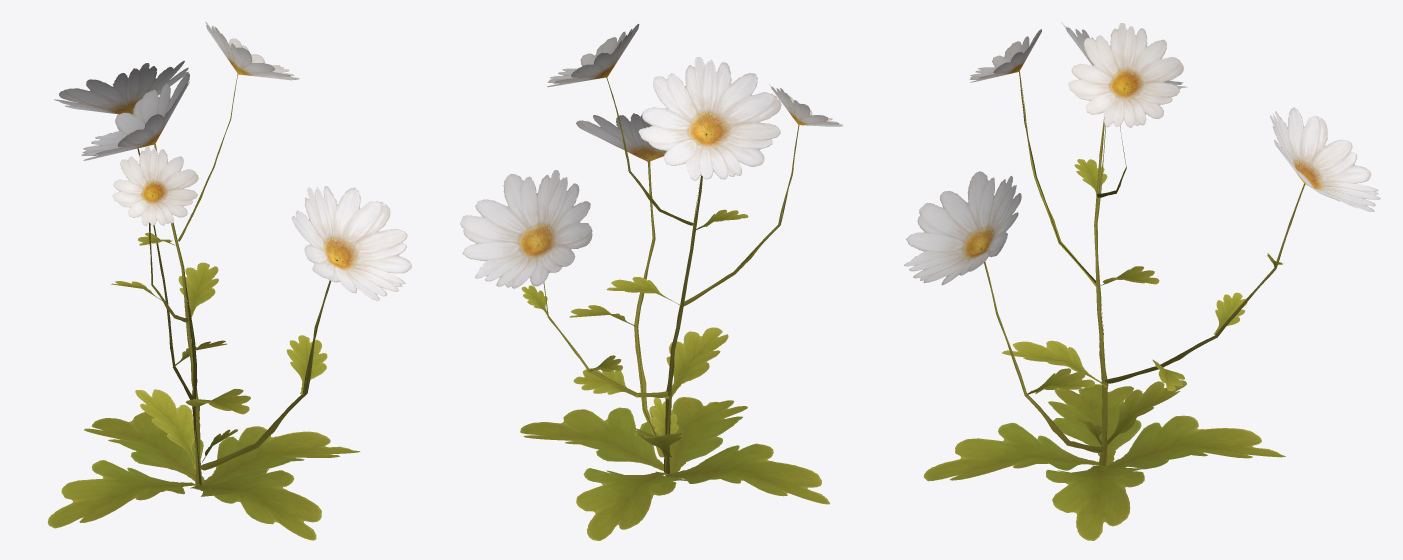
Rendered from object_grass_04.FBX.
3 views of the same model, side by side, from view 1: azimuth 30°, elevation 25°; view 2: azimuth 150°, elevation 25°; view 3: azimuth 270°, elevation 25° (orthographic). The views are drawn at different scales.
Parts seen in each view (by area): view 1: object_grass_04; view 2: object_grass_04; view 3: object_grass_04.
Boxes of the visible parts, x1,y1,x2,y2 form: object_grass_04: (47,21,411,540); object_grass_04: (460,24,842,540); object_grass_04: (904,22,1380,540).
Size of the model in its own units: 75.21 by 99.52 by 95.81.
